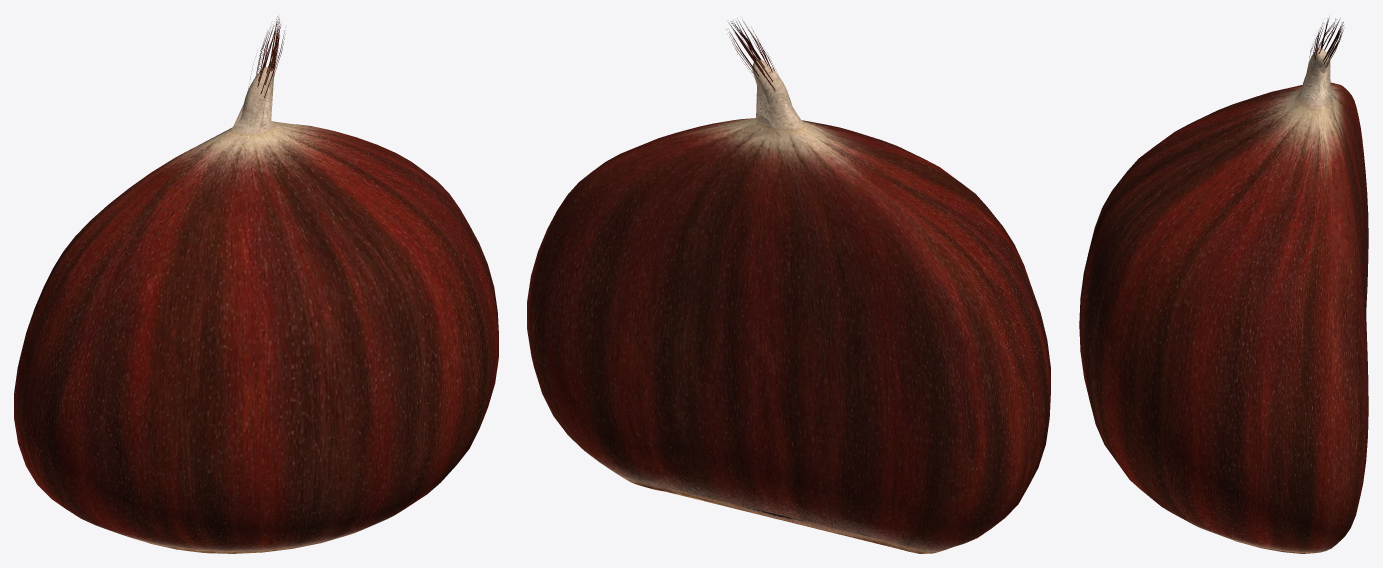
The model's file is chestnut.glb.
3 views of the same model, side by side, from view 1: azimuth 30°, elevation 25°; view 2: azimuth 150°, elevation 25°; view 3: azimuth 270°, elevation 25° (orthographic). The views are drawn at different scales.
Parts seen in each view (by area): view 1: body, pile, tuft, tiny; view 2: body, pile, tiny, tuft; view 3: body, pile, tiny, tuft.
Boxes of the visible parts, x1,y1,x2,y2 form: body: (14,67,498,553); pile: (172,95,319,552); tuft: (248,16,285,98); tiny: (175,78,314,549); body: (527,59,1050,553); pile: (531,77,906,546); tiny: (607,78,904,550); tuft: (728,18,776,90); body: (1079,48,1368,553); pile: (1278,64,1367,552); tiny: (1277,61,1359,178); tuft: (1307,17,1343,68).
Bounding box in the file's own units: 3 × 2.94 × 1.55.
2 materials, 2 textured.
